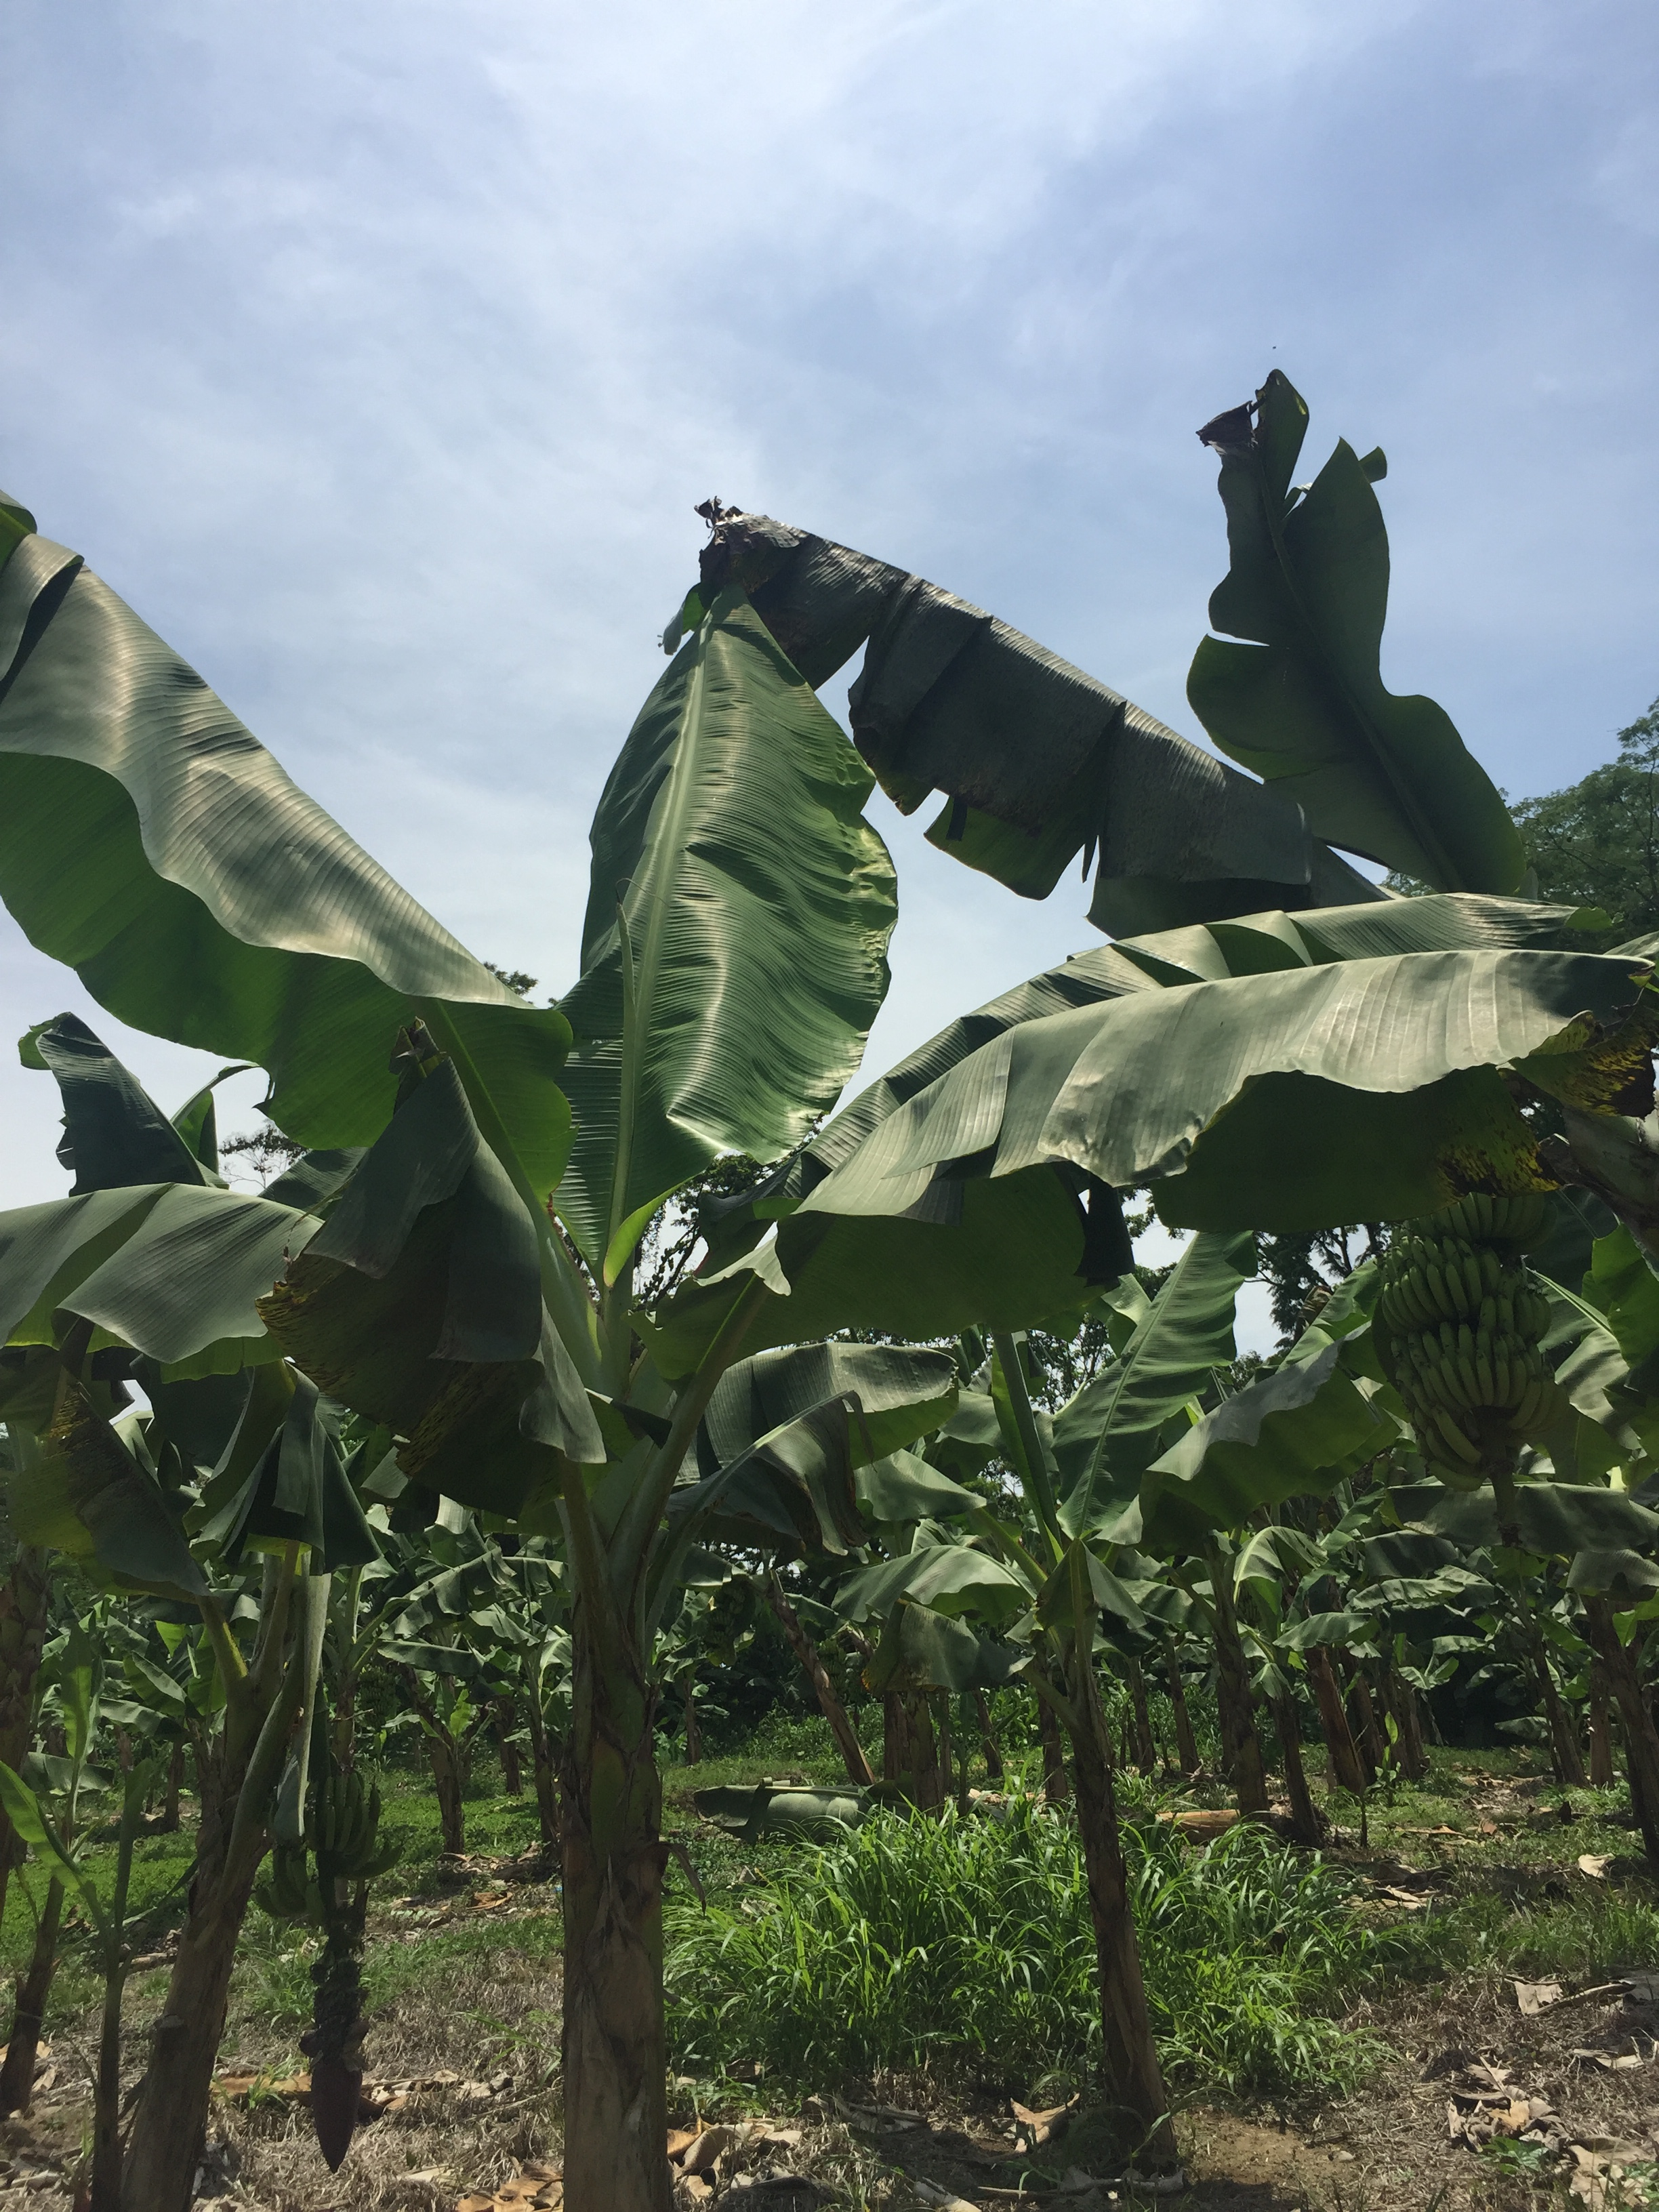candleleafs: (610, 880, 638, 1305)
